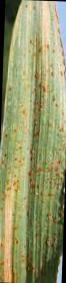Wheat: (4, 135, 55, 283), (13, 43, 62, 126)
